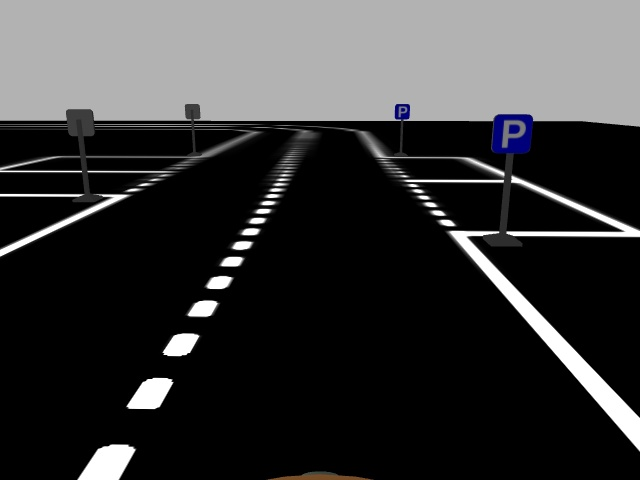parking: (490, 113, 532, 153), (393, 103, 411, 120)
